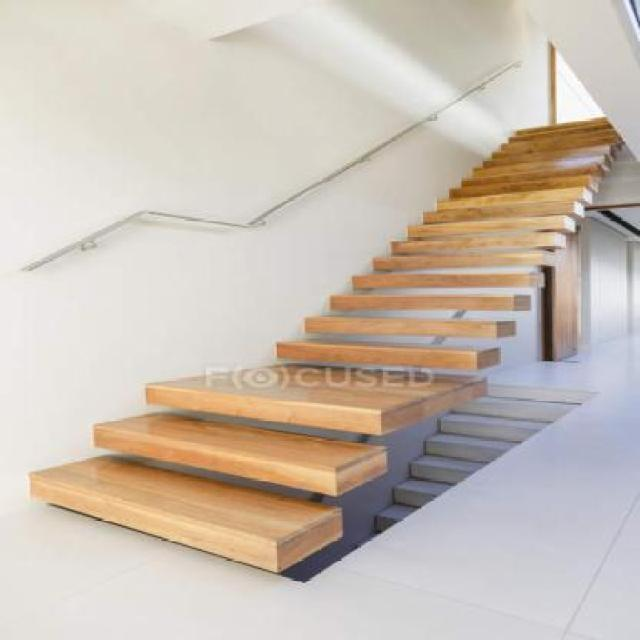stair: (39, 70, 638, 561)
